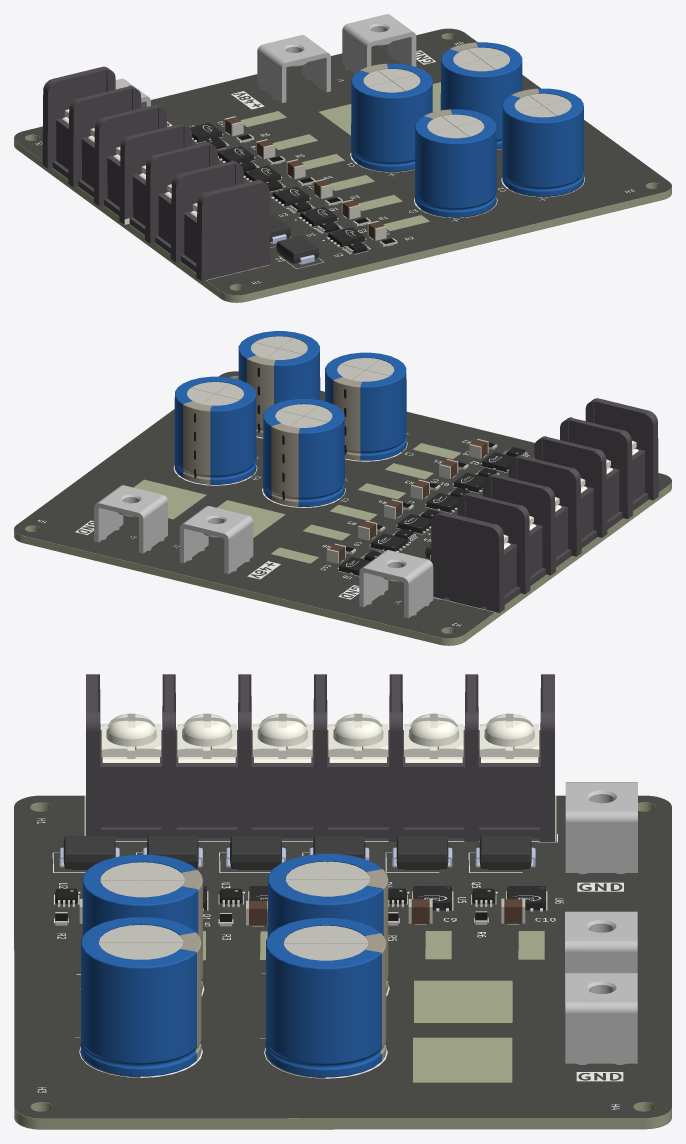
Rendered from STM32F4_LineFollower.glb.
3 views of the same model, one above another, from view 1: azimuth 30°, elevation 25°; view 2: azimuth 150°, elevation 25°; view 3: azimuth 270°, elevation 25° (orthographic). The views are drawn at different scales.
Visible parts, largest first — view 1: =>[0:1:1:14], =>[0:1:1:12], J3, C3, C2, C1, C4, J1, J2, =>[0:1:1:5] (×4), =>[0:1:1:10], D2 (+2 smaller); view 2: =>[0:1:1:14], =>[0:1:1:12], J3, C4, C1, C3, C2, J1, J4, J2, =>[0:1:1:10], =>[0:1:1:5] (×2) (+1 smaller); view 3: =>[0:1:1:14], =>[0:1:1:12], J3, C4, C2, C1, C3, J4, J2, J1, =>[0:1:1:10], D6 (+6 smaller).
Part boxes in pixels (x1,y1,x2,y2): =>[0:1:1:14]: [14, 29, 671, 302]; =>[0:1:1:12]: [14, 28, 671, 295]; J3: [42, 66, 270, 281]; C3: [415, 109, 496, 217]; C2: [502, 88, 583, 196]; C1: [351, 63, 432, 171]; C4: [440, 42, 522, 149]; J1: [257, 35, 330, 102]; J2: [342, 14, 416, 73]; =>[0:1:1:5] (×4): [190, 123, 365, 247]; =>[0:1:1:10]: [35, 41, 634, 284]; D2: [276, 235, 319, 264]; =>[0:1:1:14]: [14, 372, 671, 645]; =>[0:1:1:12]: [14, 371, 671, 638]; J3: [431, 398, 658, 612]; C4: [174, 376, 256, 484]; C1: [263, 399, 344, 506]; C3: [325, 352, 406, 460]; C2: [238, 331, 320, 437]; J1: [179, 506, 253, 574]; J4: [359, 550, 433, 618]; J2: [94, 485, 167, 553]; =>[0:1:1:10]: [38, 433, 533, 626]; =>[0:1:1:5] (×2): [370, 514, 431, 551]; =>[0:1:1:14]: [14, 796, 671, 1129]; =>[0:1:1:12]: [14, 795, 671, 1118]; J3: [86, 674, 554, 841]; C4: [265, 918, 386, 1077]; C2: [80, 917, 201, 1076]; C1: [267, 854, 388, 992]; C3: [82, 854, 202, 992]; J4: [565, 782, 637, 874]; J2: [565, 973, 637, 1064]; J1: [565, 911, 637, 1001]; =>[0:1:1:10]: [37, 795, 623, 1109]; D6: [475, 836, 535, 869].
Bounding box in the file's own units: 0.1021 × 0.0235 × 0.087.
